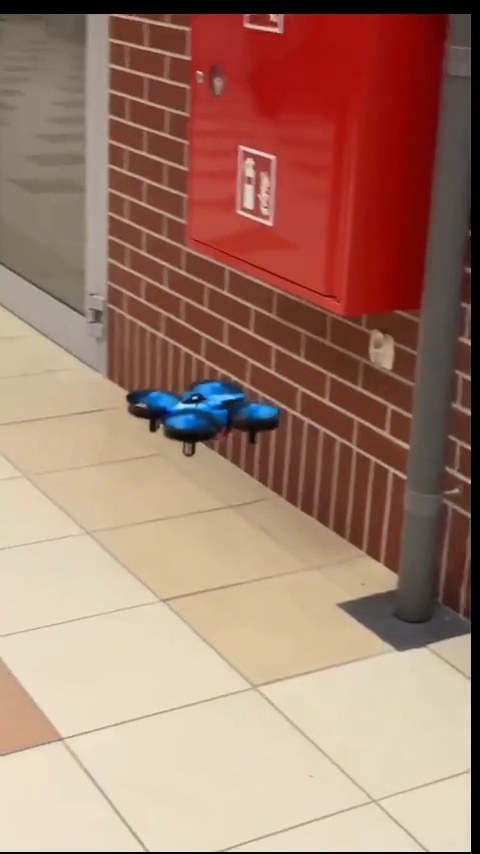drone: (121, 373, 281, 452)
